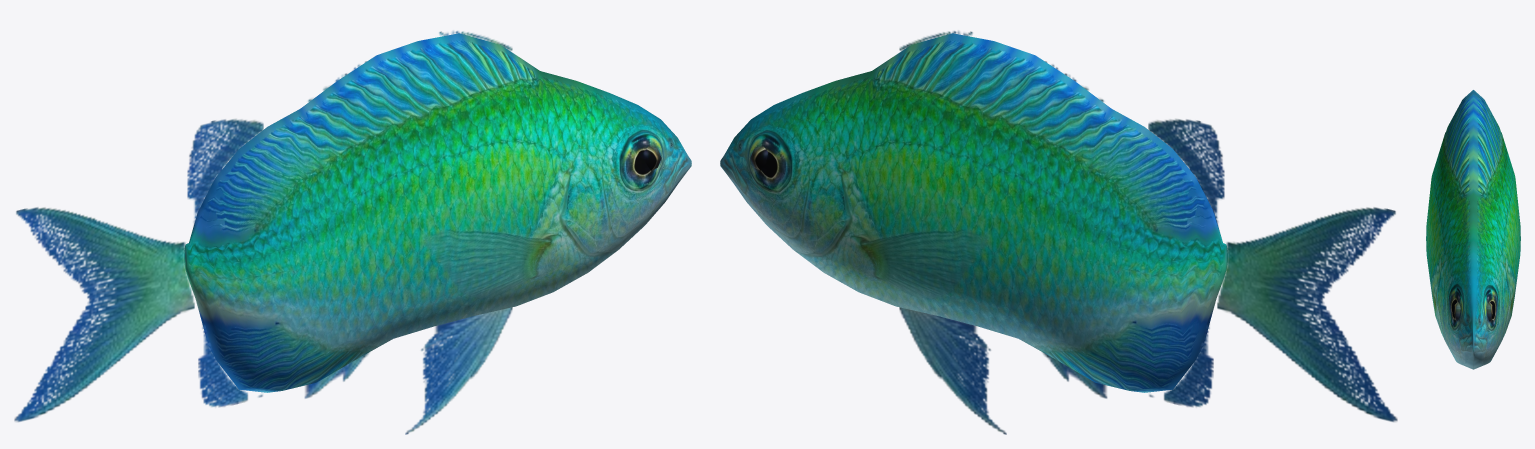
File: ocean-damselfish.glb
The picture shows the model from 3 angles, left to right: view 1: azimuth 30°, elevation 25°; view 2: azimuth 150°, elevation 25°; view 3: azimuth 270°, elevation 25°; orthographic projection. The views are drawn at different scales.
Parts seen in each view (by area): view 1: damselfish; view 2: damselfish; view 3: damselfish.
Boxes of the visible parts, <box> form: damselfish: <box>14,31,691,434</box>; damselfish: <box>720,31,1397,434</box>; damselfish: <box>1426,90,1520,369</box>.
Size of the model in its own units: 0.08 by 0.0446 by 0.0129.
Materials: 1 (1 with a texture image).
